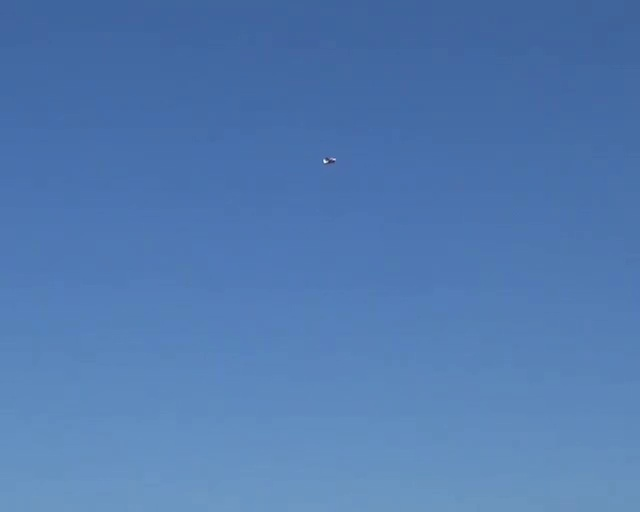AIRPLANE: (322, 155, 337, 165)
